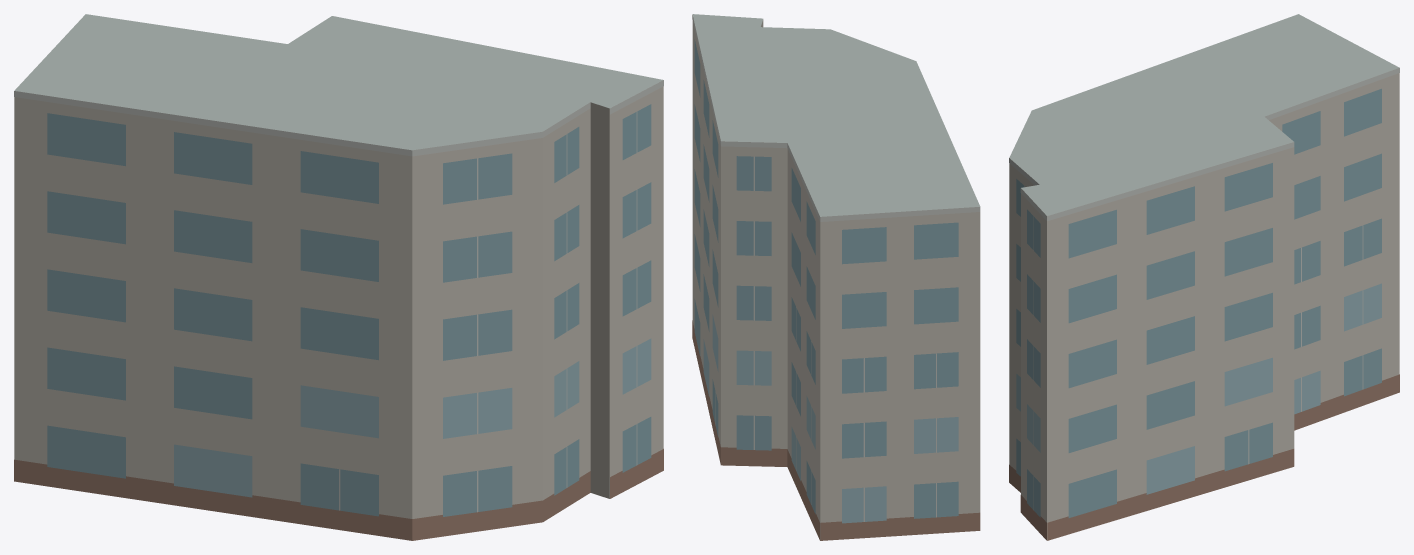
File: survey-upis-32499711.glb
3 views of the same model, side by side, from view 1: azimuth 30°, elevation 25°; view 2: azimuth 150°, elevation 25°; view 3: azimuth 270°, elevation 25° (orthographic). The views are drawn at different scales.
Visible parts, largest first — view 1: survey-upis-32499711.tmp; view 2: survey-upis-32499711.tmp; view 3: survey-upis-32499711.tmp.
Boxes of the visible parts, box(x1,y1,x2,y2) form: survey-upis-32499711.tmp: box(14, 14, 663, 540); survey-upis-32499711.tmp: box(692, 14, 980, 540); survey-upis-32499711.tmp: box(1009, 14, 1399, 540).
Size of the model in its own units: 20.63 by 15.44 by 16.84.
